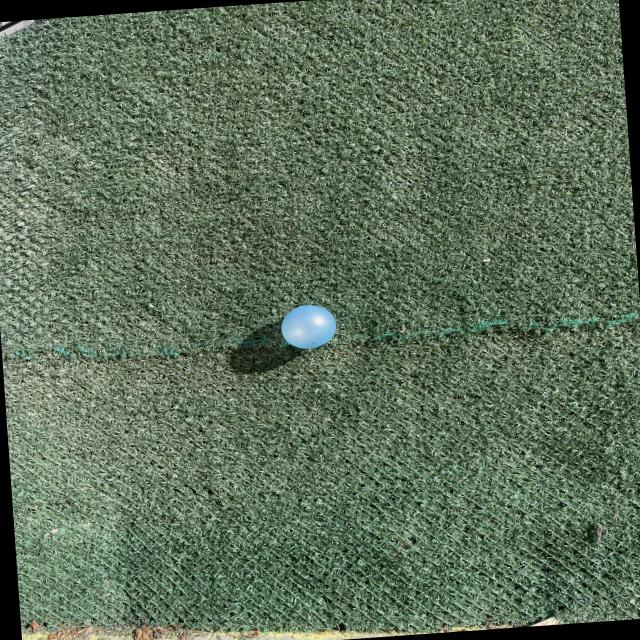balloon: (281, 305, 335, 348)
